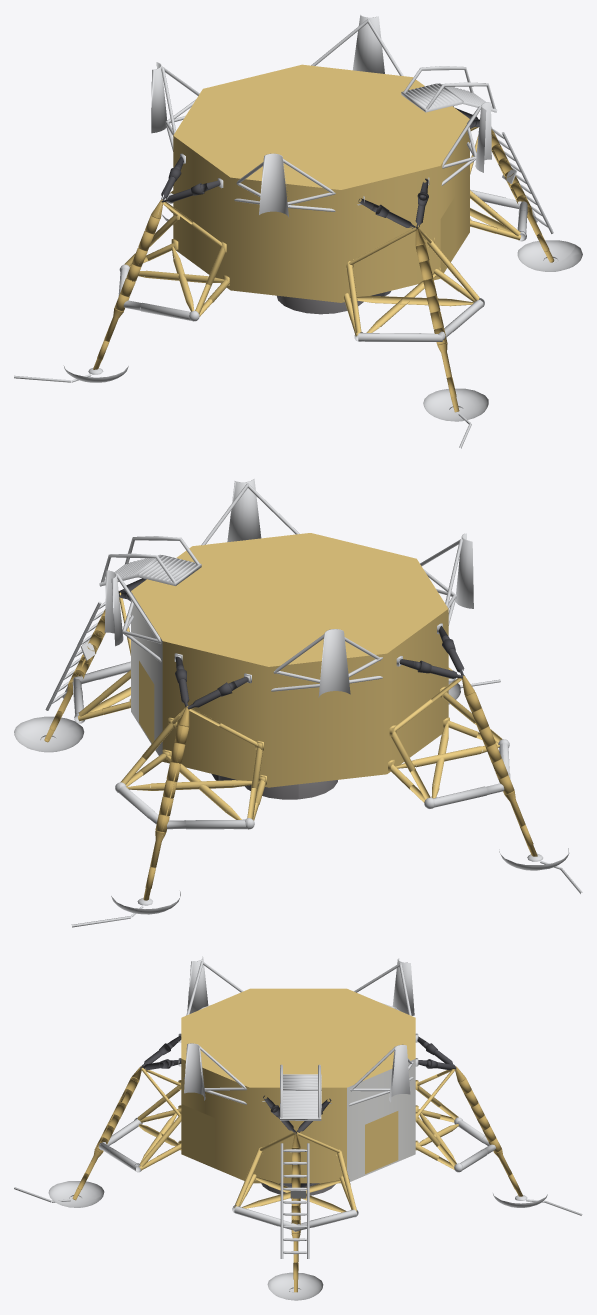
The model's file is apollo11lm-sw.glb.
The picture shows the model from 3 angles, top to bottom: view 1: azimuth 30°, elevation 25°; view 2: azimuth 150°, elevation 25°; view 3: azimuth 270°, elevation 25°; orthographic projection. The views are drawn at different scales.
Parts seen in each view (by area): view 1: descent-stage-body, landing-legs, ascent-stage-launchpad, ladder-porch, descent-engine; view 2: descent-stage-body, landing-legs, ascent-stage-launchpad, ladder-porch, equipment-bay, descent-engine; view 3: descent-stage-body, landing-legs, ascent-stage-launchpad, equipment-bay, ladder-porch.
Part boxes in pixels (x1,y1,x2,y2): descent-stage-body: (124,64,520,336); landing-legs: (63,129,582,421); ascent-stage-launchpad: (151,14,491,229); ladder-porch: (401,66,553,233); descent-engine: (277,295,363,314); descent-stage-body: (78,533,502,820); landing-legs: (14,591,569,914); ascent-stage-launchpad: (104,478,473,709); ladder-porch: (45,536,201,710); equipment-bay: (131,591,162,755); descent-engine: (244,780,337,799); descent-stage-body: (137,988,458,1212); landing-legs: (48,1066,547,1300); ascent-stage-launchpad: (140,956,456,1134); equipment-bay: (347,1059,415,1181); ladder-porch: (280,1064,321,1258).
Size of the model in its own units: 9.96 by 4.09 by 10.61.
